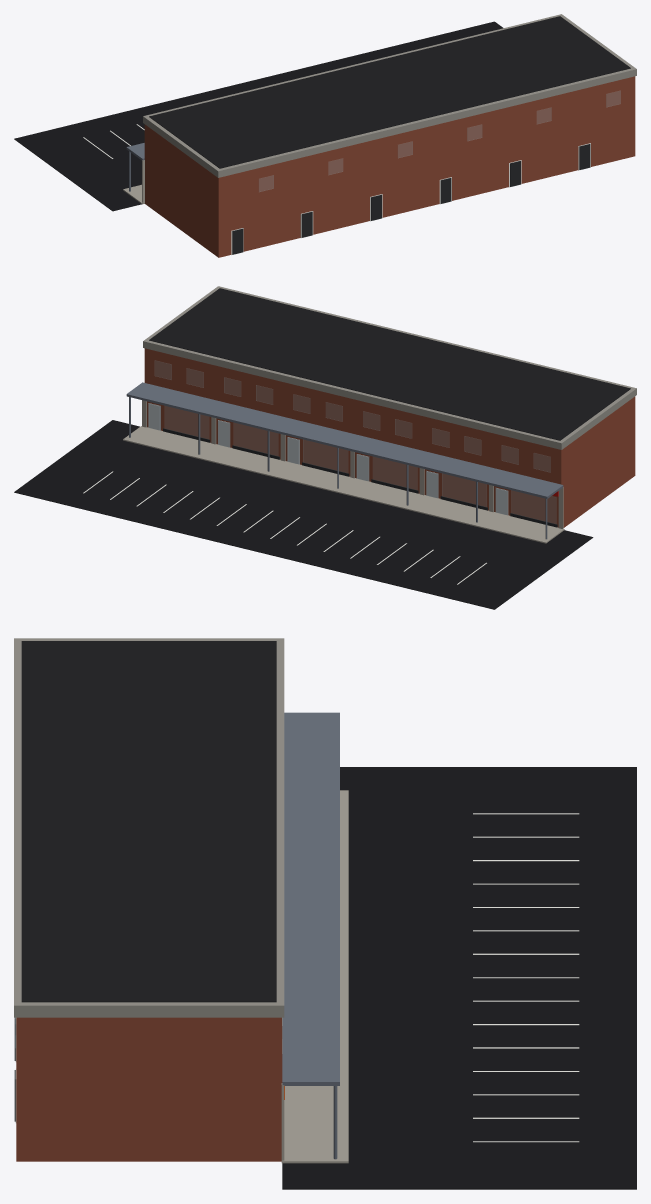
Rendered from context.type.shopping_parade.glb.
3 renders of one model, top to bottom at view 1: azimuth 30°, elevation 25°; view 2: azimuth 150°, elevation 25°; view 3: azimuth 270°, elevation 25°, orthographic. The views are drawn at different scales.
Parts seen in each view (by area): view 1: walls__brick, roof__roof_felt, ground__asphalt, roof__concrete, openings__steel_dark, openings__glass, openings__paint_white; view 2: ground__asphalt, roof__roof_felt, walls__brick, openings__glass, ground__paving, roof__steel_painted, roof__concrete, openings__aluminium, walls__paving, openings__steel_dark, ground__paint_white, walls__steel_painted; view 3: ground__asphalt, roof__roof_felt, walls__brick, roof__steel_painted, roof__concrete, ground__paving, ground__paint_white.
Part boxes in pixels (x1,y1,x2,y2): walls__brick: (144, 76, 635, 257); roof__roof_felt: (149, 16, 630, 168); ground__asphalt: (14, 21, 503, 211); roof__concrete: (143, 14, 636, 177); openings__steel_dark: (232, 144, 590, 254); openings__glass: (259, 91, 620, 191); openings__paint_white: (231, 143, 590, 255); ground__asphalt: (14, 420, 593, 609); roof__roof_felt: (149, 288, 630, 440); walls__brick: (144, 348, 635, 527); openings__glass: (149, 360, 556, 523); ground__paving: (123, 426, 564, 543); roof__steel_painted: (126, 382, 563, 498); roof__concrete: (143, 286, 636, 449); openings__aluminium: (148, 403, 508, 515); walls__paving: (142, 400, 563, 528); openings__steel_dark: (163, 428, 557, 527); ground__paint_white: (83, 471, 486, 584); walls__steel_painted: (129, 397, 547, 539); ground__asphalt: (282, 767, 636, 1189); roof__roof_felt: (21, 641, 276, 1002); walls__brick: (16, 1017, 282, 1161); roof__steel_painted: (282, 712, 339, 1085); roof__concrete: (14, 638, 284, 1017); ground__paving: (282, 790, 348, 1163); ground__paint_white: (473, 813, 579, 1142).
Bounding box in the file's own units: 45 × 7.88 × 28.1.
